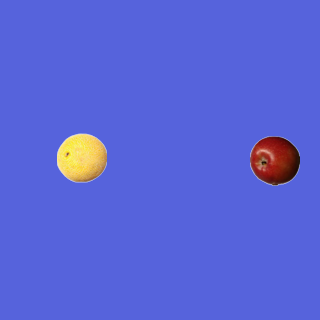Apple Braeburn: (249, 135, 299, 185)
Cantaloupe 1: (56, 132, 106, 182)
